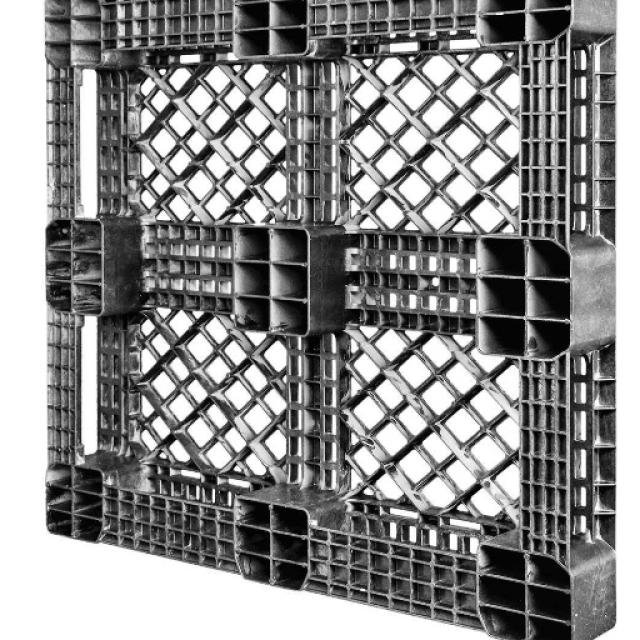non-igps: (36, 0, 626, 640)
